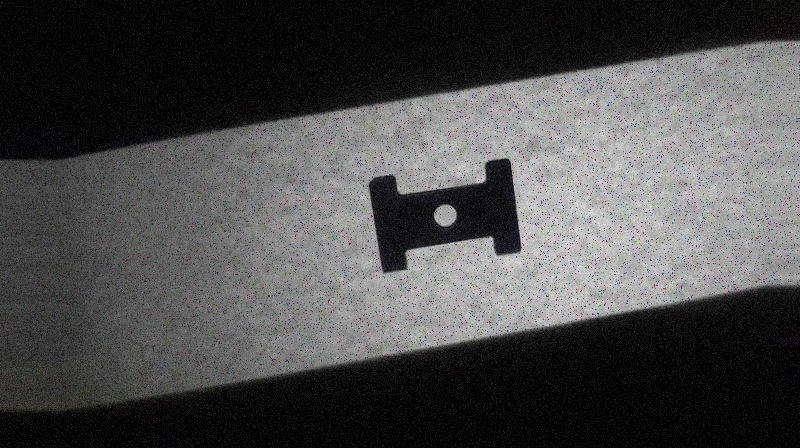O002: (366, 156, 524, 275)
